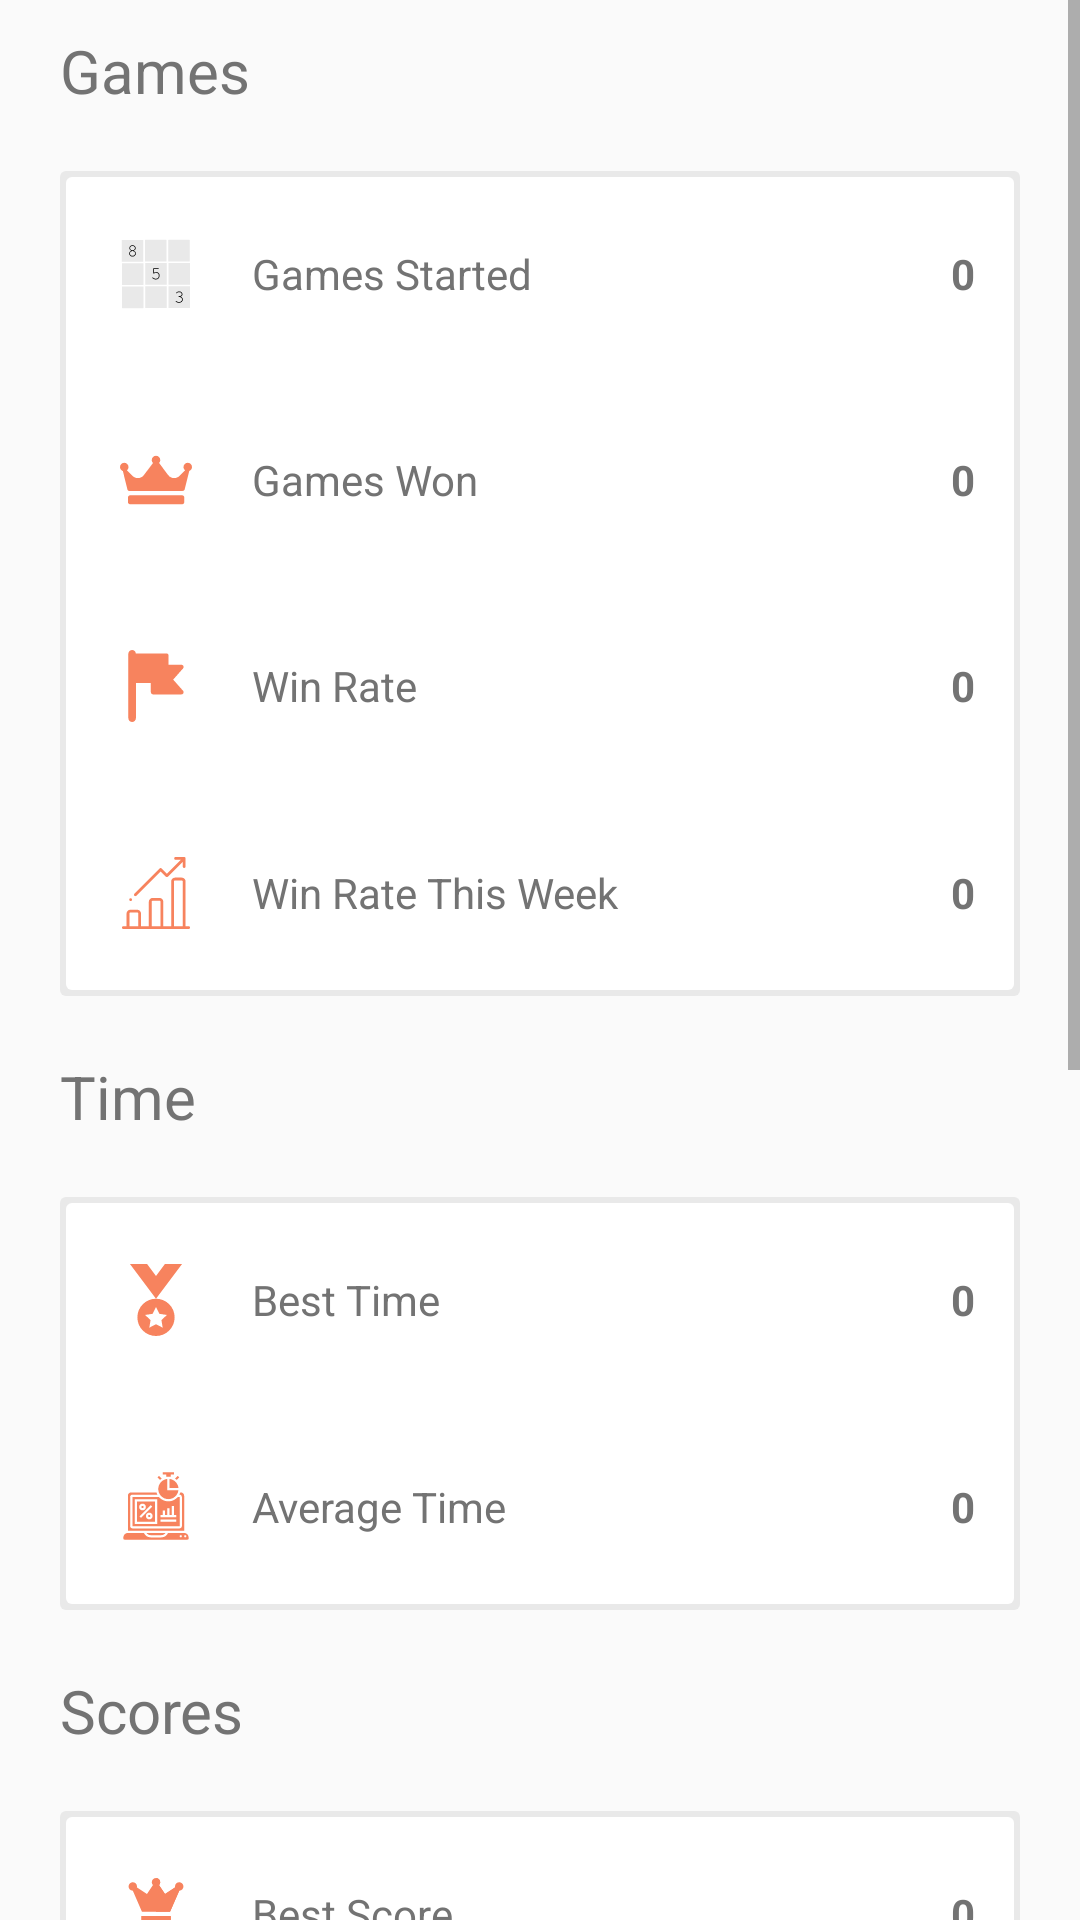

Where icons sit on this 1080×1920 app screen, as rect(x1, y1, x2, y2):
bar chart: rect(122, 857, 190, 929)
crown: rect(120, 456, 192, 505)
flag waving: rect(128, 650, 184, 722)
sudoku: rect(129, 245, 183, 303)
